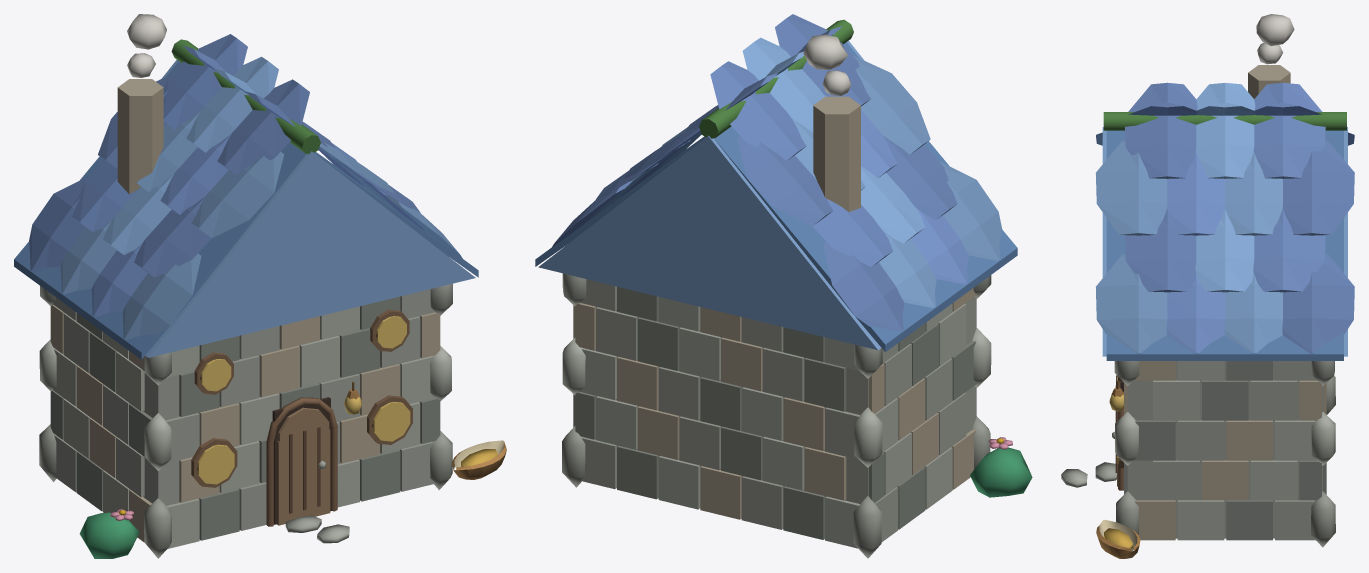
File: house_stone.glb
The picture shows the model from 3 angles, left to right: view 1: azimuth 30°, elevation 25°; view 2: azimuth 150°, elevation 25°; view 3: azimuth 270°, elevation 25°; orthographic projection. The views are drawn at different scales.
Visible parts, largest first — view 1: body, body_nl, body__far; view 2: body, body_nl, body__far; view 3: body_nl, body, body__far.
Part boxes in pixels (box(x1,y1,x2,y2)): body: box(39, 283, 506, 558); body_nl: box(14, 14, 478, 558); body__far: box(117, 60, 475, 524); body: box(562, 273, 991, 558); body_nl: box(535, 14, 1032, 497); body__far: box(538, 40, 976, 503); body_nl: box(1096, 14, 1354, 360); body: box(1061, 361, 1335, 558); body__far: box(1102, 65, 1347, 538).
Size of the model in its own units: 3.51 by 3.81 by 2.33.
